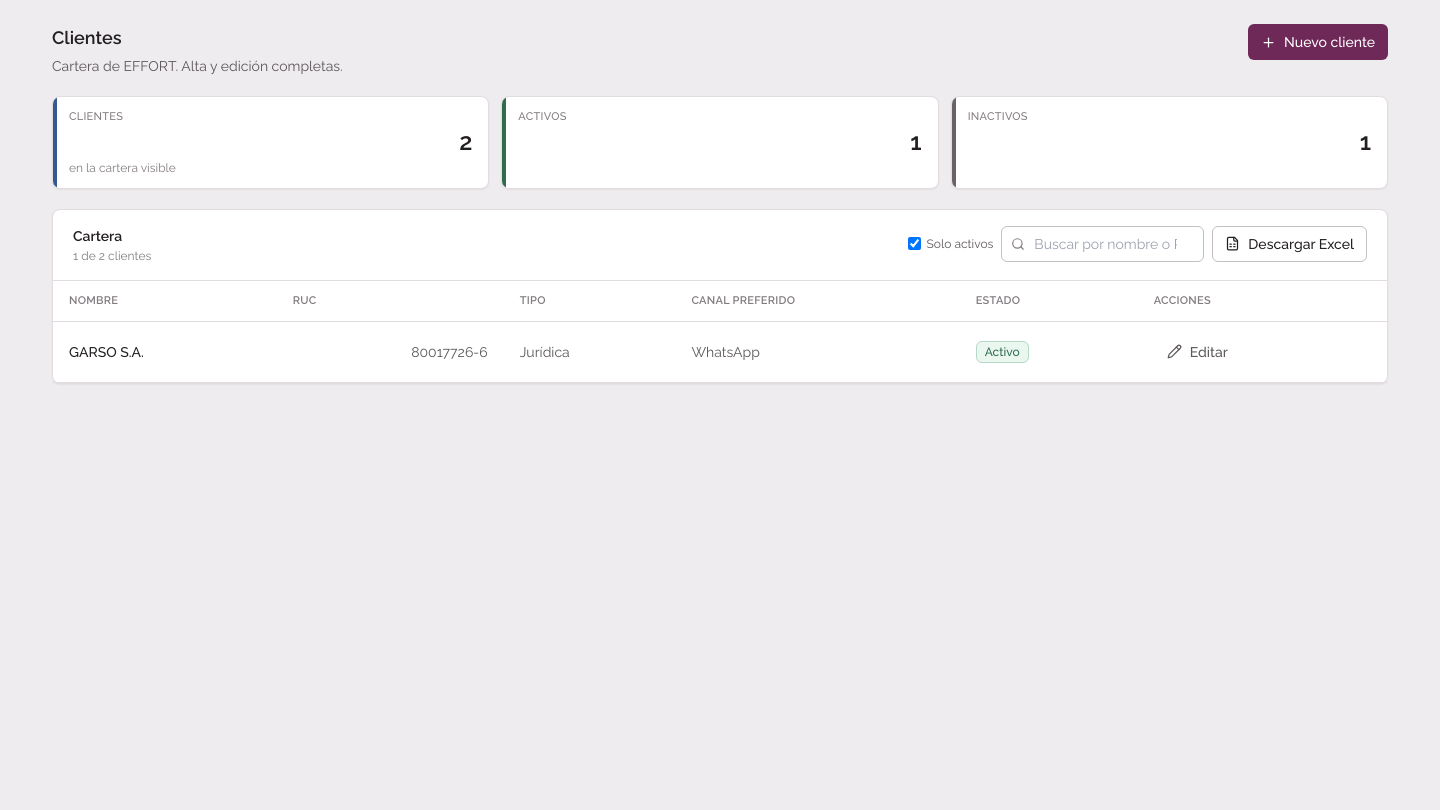
Test: pantalla de clientes › editar precarga los datos actuales del cliente
The image size is (1440, 810).
Check: the text "GARSO S.A." is shown, box x1=53 y1=321 x2=277 y2=382
Check: the button "Nuevo cliente" is shown, box x1=1248 y1=24 x2=1388 y2=60
Click the button with aria-label "Editar GARSO S.A.". click: (1197, 352)
box: x1=1154 y1=334 x2=1241 y2=370
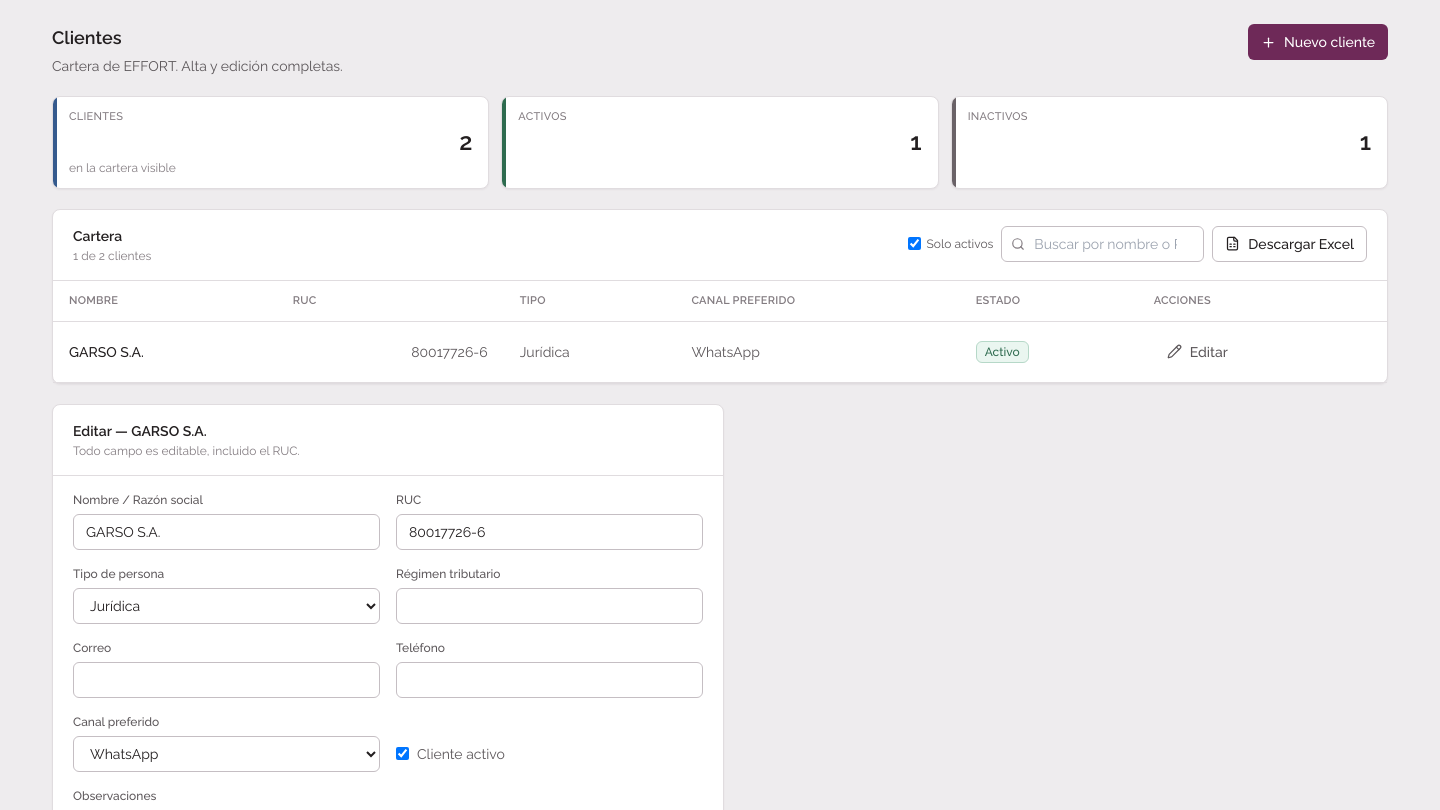
Check: the field labelled "Nombre / Razón social" holds "GARSO S.A.", box x1=73 y1=514 x2=380 y2=550
Check: the field labelled "RUC" holds "80017726-6", box x1=396 y1=514 x2=703 y2=550
Check: the checkbox labelled "Cliente activo" is checked, box x1=396 y1=747 x2=409 y2=760
